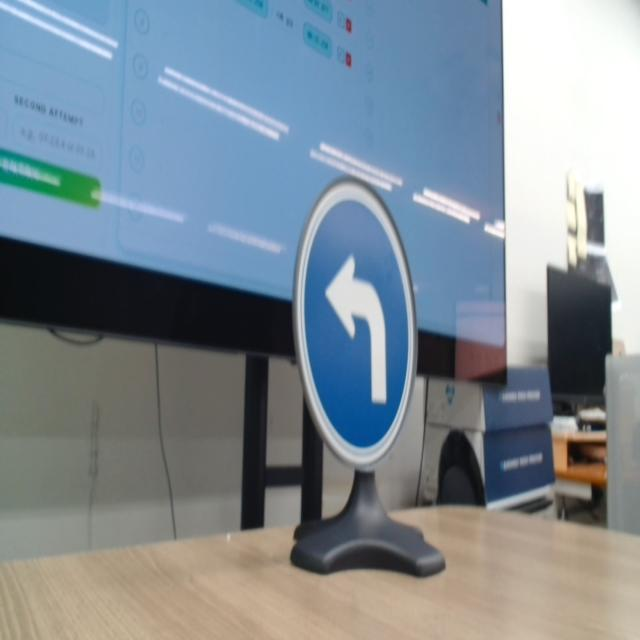left_direction: (289, 170, 421, 464)
